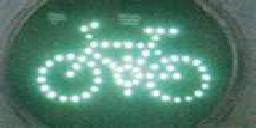LED: (37, 18, 211, 105)
